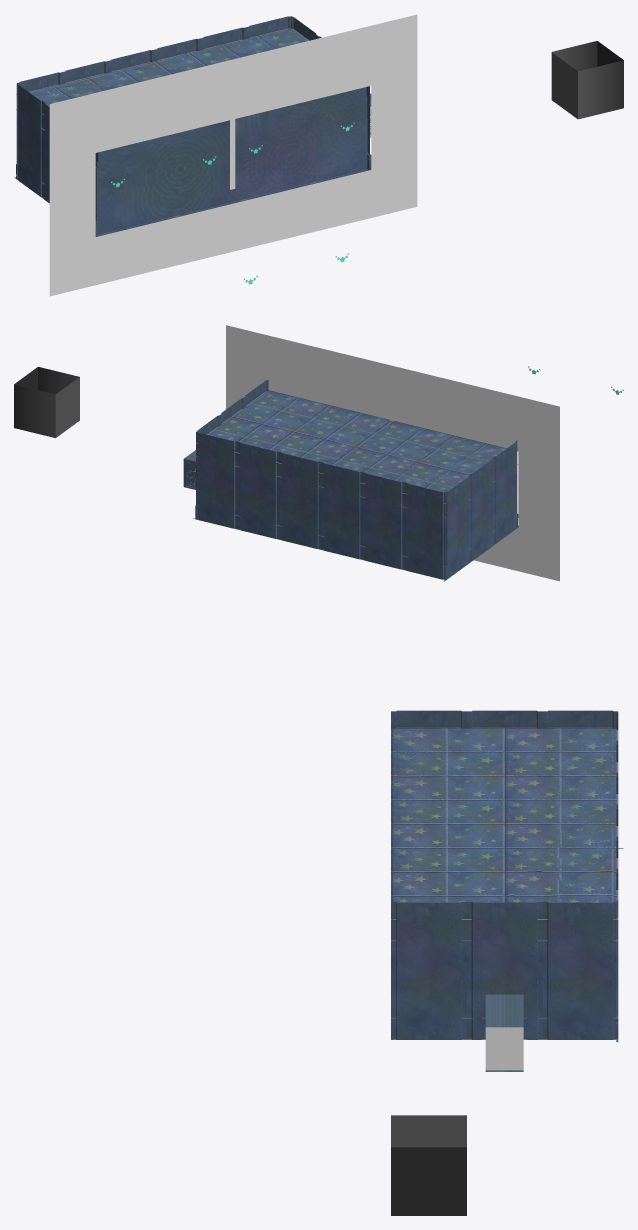
The model's file is las_15.dae.
3 renders of one model, top to bottom at view 1: azimuth 30°, elevation 25°; view 2: azimuth 150°, elevation 25°; view 3: azimuth 270°, elevation 25°, orthographic. The views are drawn at different scales.
Visible parts, largest first — view 1: polySurface387, pCube4_q00013, pCube1_q00011, pCube1_q00055, polySurface216_q00002, pCube3_q00048, w_bero_1, pCube3_q00049, pCube3_q00026, pCube1_q00056, pCube3_q00027, pCube3_q00025 (+4 smaller); view 2: polySurface387, pCube1_q00055, pCube1_q00011, pCube3_q00027, pCube3_q00022, pCube3_q00026, pCube3_q00024, pCube3_q00025, pCube3_q00023, polySurface216_q00002, pCube3_q00050, pCube3_q00049 (+3 smaller); view 3: pCube1_q00055, pCube3_q00037, pCube3_q00036, pCube3_q00038, pCube1_q00011, polySurface216_q00002, w_bero_1, polySurface204_q00000, pCube3_q00049, pCube3_q00050, pCube3_q00048, pCube3_q00007.
Boxes of the visible parts, x1,y1,x2,y2 form: polySurface387: (49, 14, 417, 296); pCube4_q00013: (96, 87, 367, 234); pCube1_q00011: (30, 29, 305, 106); pCube1_q00055: (16, 28, 309, 115); polySurface216_q00002: (552, 41, 623, 119); pCube3_q00048: (14, 82, 43, 197); w_bero_1: (551, 52, 577, 118); pCube3_q00049: (41, 102, 49, 203); pCube3_q00026: (16, 72, 62, 164); pCube1_q00056: (43, 169, 368, 236); pCube3_q00027: (200, 27, 246, 50); pCube3_q00025: (62, 61, 108, 83); polySurface387: (226, 325, 559, 581); pCube1_q00055: (196, 390, 517, 503); pCube1_q00011: (252, 392, 504, 491); pCube3_q00027: (234, 442, 279, 539); pCube3_q00022: (276, 452, 321, 549); pCube3_q00026: (402, 482, 446, 579); pCube3_q00024: (318, 462, 362, 559); pCube3_q00025: (360, 472, 404, 569); pCube3_q00023: (193, 431, 237, 528); polySurface216_q00002: (14, 366, 79, 437); pCube3_q00050: (492, 440, 517, 546); pCube3_q00049: (469, 458, 492, 562); pCube1_q00055: (391, 727, 618, 919); pCube3_q00037: (391, 902, 466, 1039); pCube3_q00036: (537, 902, 616, 1039); pCube3_q00038: (462, 902, 542, 1071); pCube1_q00011: (396, 729, 613, 902); polySurface216_q00002: (391, 1147, 466, 1215); w_bero_1: (391, 1115, 466, 1147); polySurface204_q00000: (485, 1027, 523, 1070); pCube3_q00049: (467, 710, 542, 728); pCube3_q00050: (391, 710, 466, 728); pCube3_q00048: (542, 710, 623, 848); pCube3_q00007: (486, 994, 522, 1027).
Bounding box in the file's own units: 125 × 40 × 80.55.
